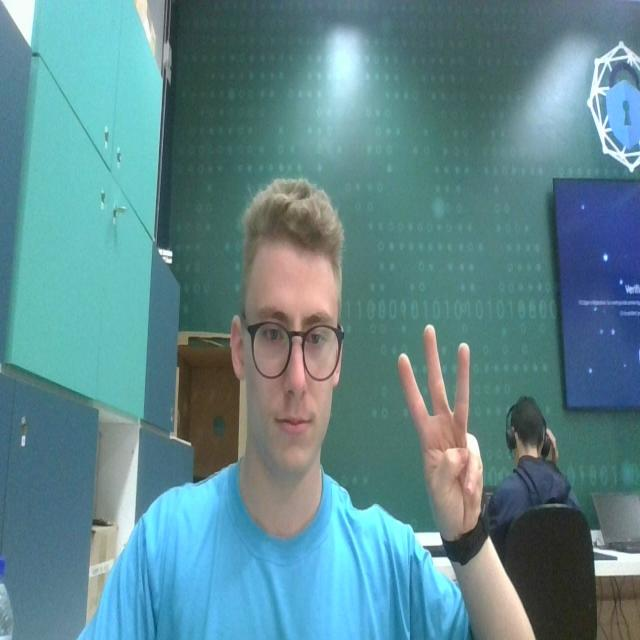W: (389, 316, 486, 540)
